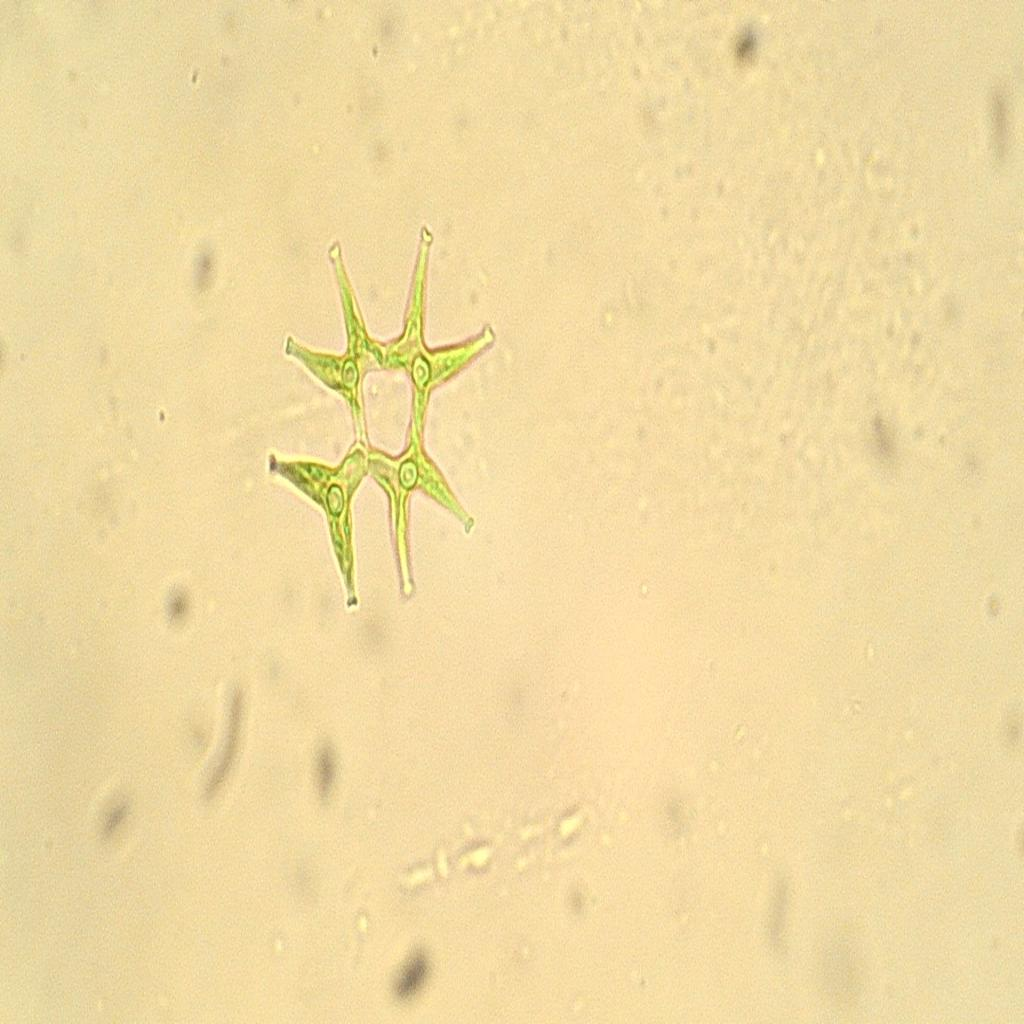Pediastrum_CT: (249, 210, 503, 625)
